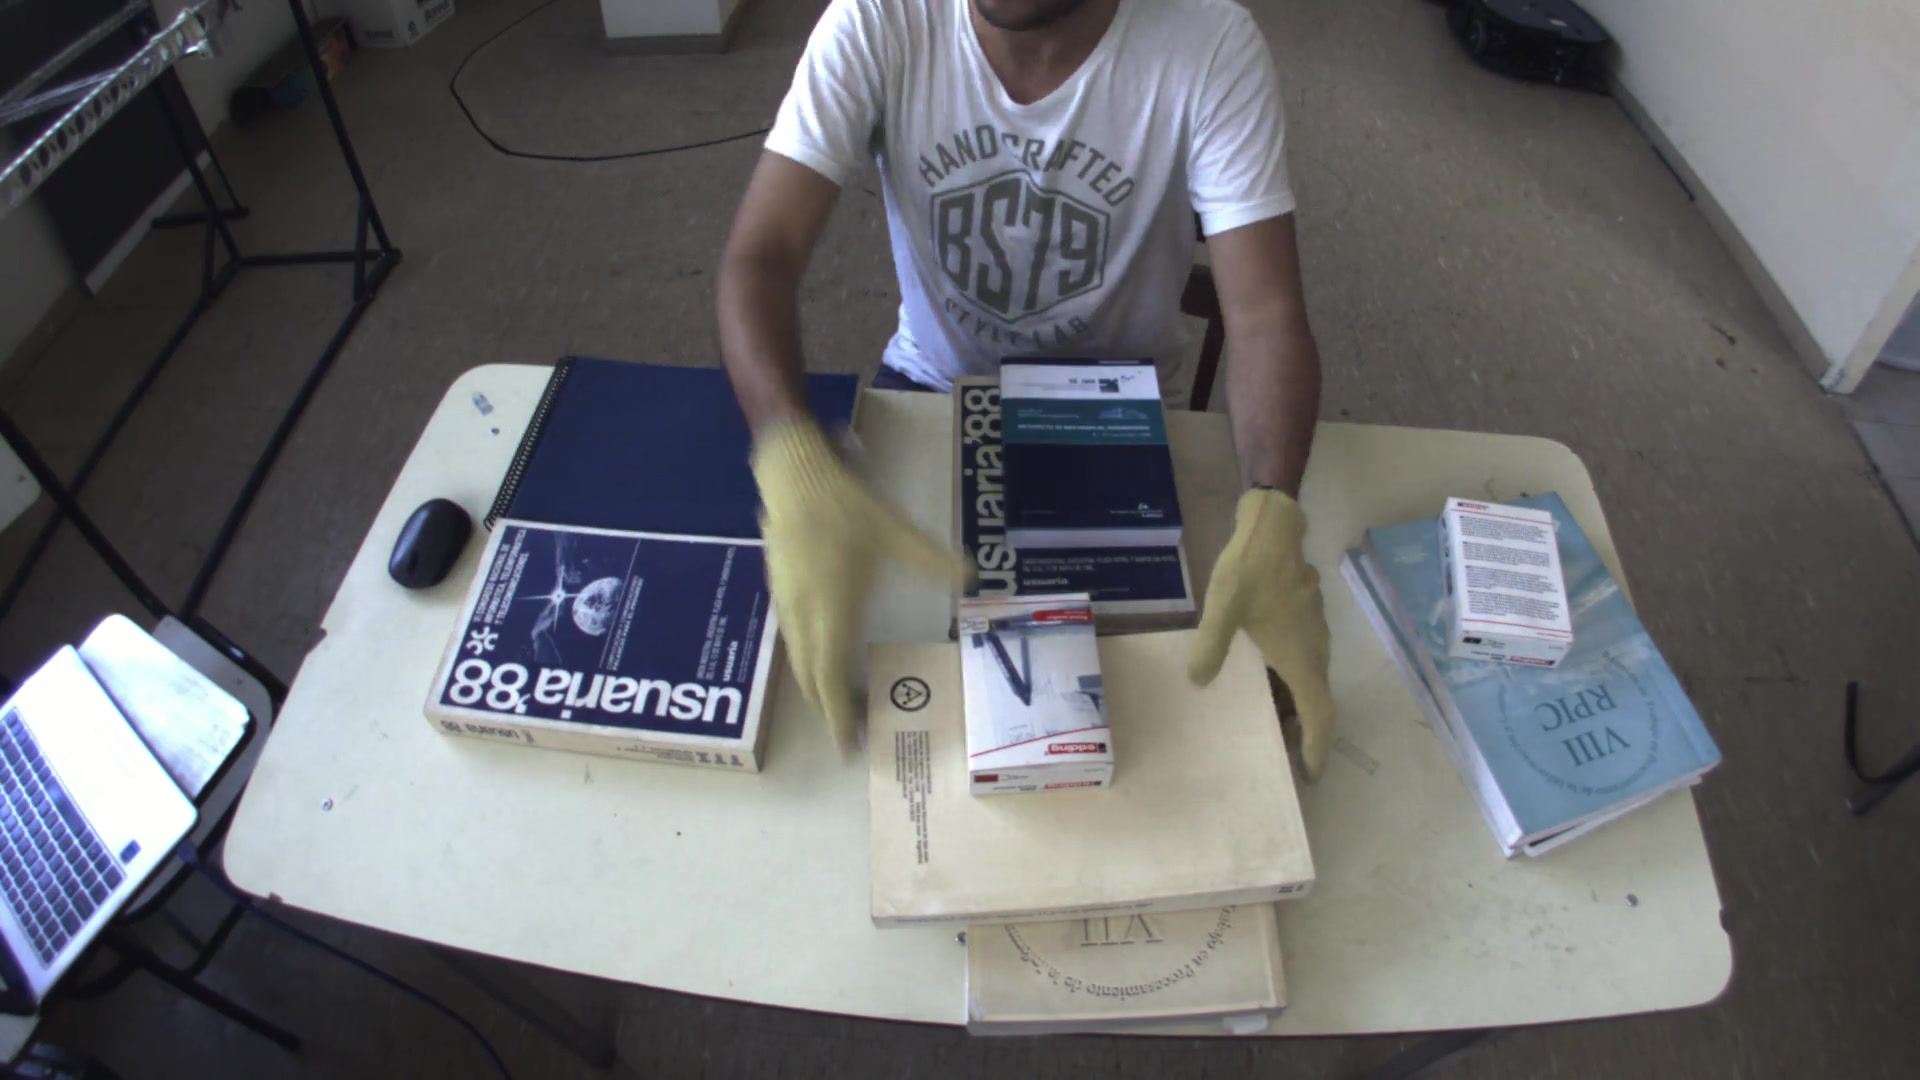hand: (1176, 484, 1354, 783)
